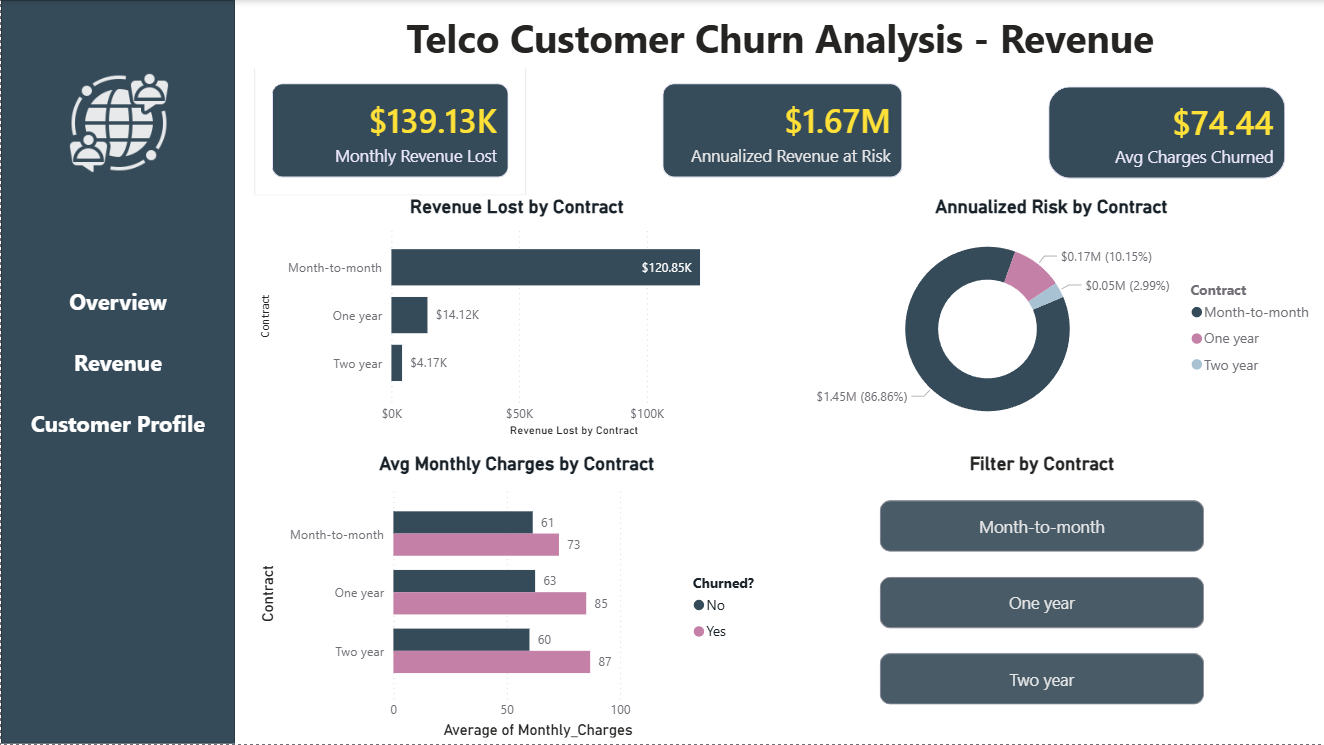

The page's visual inventory and layout, read from the dashboard file:
{"tool":"powerbi","page":{"name":"Revenue","canvas":[1280,720],"ordinal":1},"visuals":[{"type":"cardVisual","fields":{"Data":["ChurnData.Monthly Revenue Lost"]},"box":[244.9,64.2,263.5,125],"z":0},{"type":"actionButton","box":[13.5,261.8,199.3,59.1],"z":0,"group":"g1"},{"type":"cardVisual","fields":{"Data":["ChurnData.Annualized Revenue at Risk"]},"box":[623.3,64.2,266.9,125],"z":1000},{"type":"actionButton","box":[13.5,320.9,199.3,59.1],"z":1000,"group":"g1"},{"type":"cardVisual","fields":{"Data":["ChurnData.Avg Charges Churned"]},"box":[996.6,65.9,263.5,123.3],"z":2000},{"type":"actionButton","box":[13.5,380,199.3,59.1],"z":2000,"group":"g1"},{"type":"advancedSlicerVisual","title":"Filter by Contract ","fields":{"Values":["ChurnData.Contract"]},"box":[844.6,439.2,324.3,280.4],"z":3000},{"type":"textbox","box":[226.4,0,1054.1,65.9],"z":4000},{"type":"shape","box":[0,0,226.4,719.6],"z":5000},{"type":"group","id":"g1","title":"Group 1","box":[13.5,261.8,199.3,177.4],"z":6000},{"type":"image","box":[55.7,65.9,116.6,104.7],"z":7000},{"type":"clusteredBarChart","title":"Avg Monthly Charges by Contract","fields":{"Y":["Avg(ChurnData.Monthly_Charges)"],"Category":["ChurnData.Contract"],"Series":["ChurnData.Churn_Label"]},"box":[244.9,439.2,508.5,280.4],"z":8000},{"type":"barChart","title":"Revenue Lost by Contract","fields":{"Category":["ChurnData.Contract"],"Y":["ChurnData.Revenue Lost by Contract"]},"box":[244.9,189.2,508.5,238.2],"z":9000},{"type":"donutChart","title":"Annualized Risk by Contract ","fields":{"Category":["ChurnData.Contract"],"Y":["ChurnData.Annualized Revenue at Risk"]},"box":[753,189,527,238],"z":10000}]}

Visuals, with their boxes in screenshot pixels (x1, y1, x2, y2), scaled from the page's 1280x720 canvas onto the 1324x745 screenshot:
cardVisual - ChurnData.Monthly Revenue Lost: [left=253, top=66, right=526, bottom=196]
actionButton: [left=14, top=271, right=220, bottom=332]
cardVisual - ChurnData.Annualized Revenue at Risk: [left=645, top=66, right=921, bottom=196]
actionButton: [left=14, top=332, right=220, bottom=393]
cardVisual - ChurnData.Avg Charges Churned: [left=1031, top=68, right=1303, bottom=196]
actionButton: [left=14, top=393, right=220, bottom=454]
"Filter by Contract " advancedSlicerVisual: [left=874, top=454, right=1209, bottom=744]
textbox: [left=234, top=0, right=1323, bottom=68]
shape: [left=0, top=0, right=234, bottom=744]
"Group 1" group: [left=14, top=271, right=220, bottom=454]
image: [left=58, top=68, right=178, bottom=177]
"Avg Monthly Charges by Contract" clusteredBarChart: [left=253, top=454, right=779, bottom=744]
"Revenue Lost by Contract" barChart: [left=253, top=196, right=779, bottom=442]
"Annualized Risk by Contract " donutChart: [left=779, top=196, right=1323, bottom=442]
